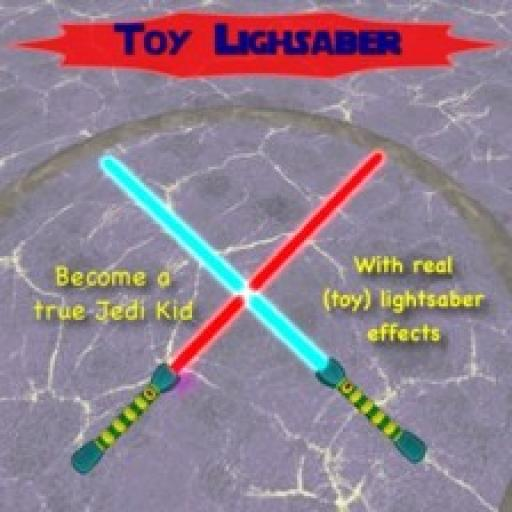lightsaber: (99, 153, 433, 464), (69, 148, 385, 475)
